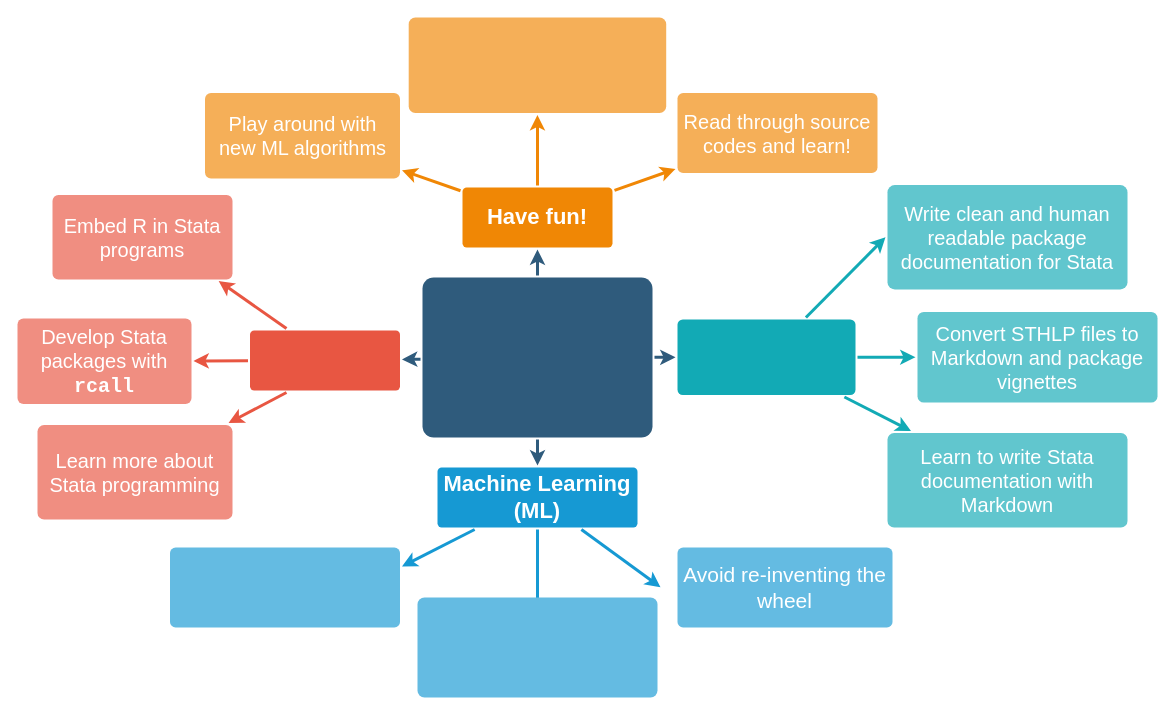
The diagram is 1174 pixels wide and 714 high, and some of its shapes have lost their labels. Here are the shapes that lost their labels. From the top down, the centre of each, then its label:
the point at 537,64: Make new functionalities available for Stata effortlessly!
the point at 325,360: learn rcall
the point at 537,357: WHAT is this repo ABOUT?
the point at 766,356: Software documentation
the point at 285,587: Implement a variety of ML algorithms
the point at 537,647: Instead of developing from scratch, use ML R packages in Stata
